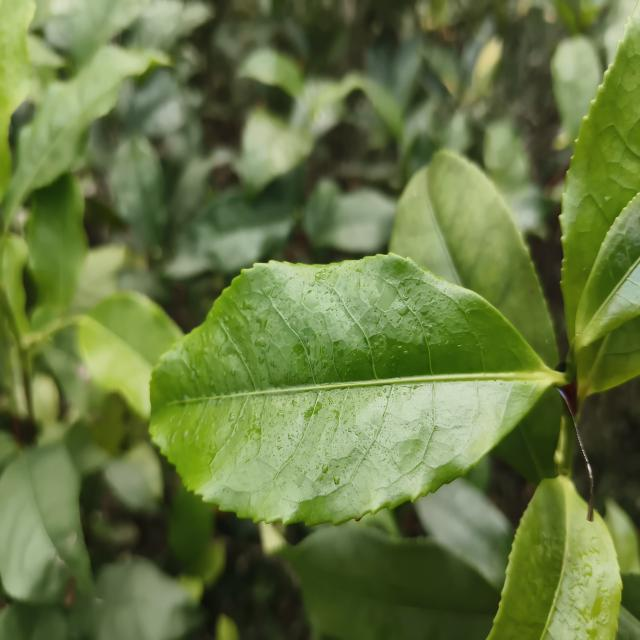Leaf: (150, 254, 562, 524), (389, 150, 559, 368), (4, 46, 167, 230), (559, 0, 640, 339), (279, 523, 499, 640), (487, 476, 622, 640), (0, 443, 92, 604), (78, 291, 182, 419), (415, 478, 514, 595), (167, 190, 293, 278), (577, 193, 640, 347), (25, 173, 88, 313), (108, 136, 167, 251), (495, 389, 562, 484), (236, 109, 313, 191), (551, 36, 602, 143), (578, 320, 640, 393), (327, 189, 395, 253), (104, 442, 163, 511), (169, 486, 213, 573), (239, 48, 303, 97)
